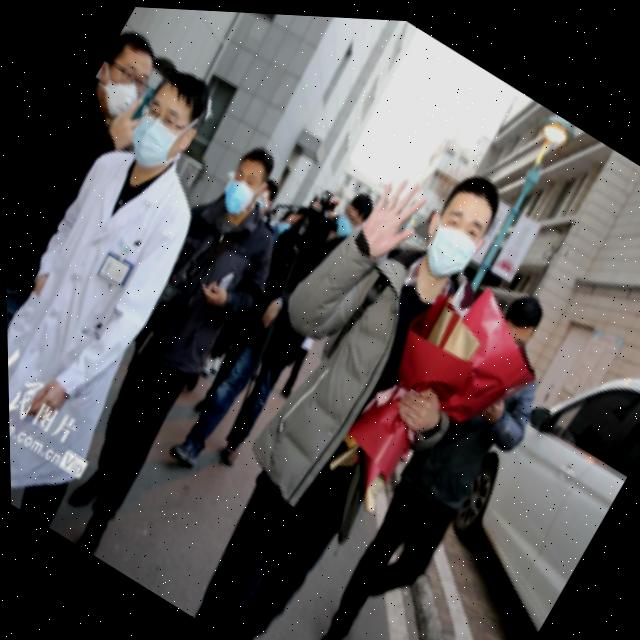Mask: (401, 196, 493, 293), (121, 97, 197, 178), (81, 48, 153, 126), (214, 152, 273, 218), (328, 192, 368, 241)
